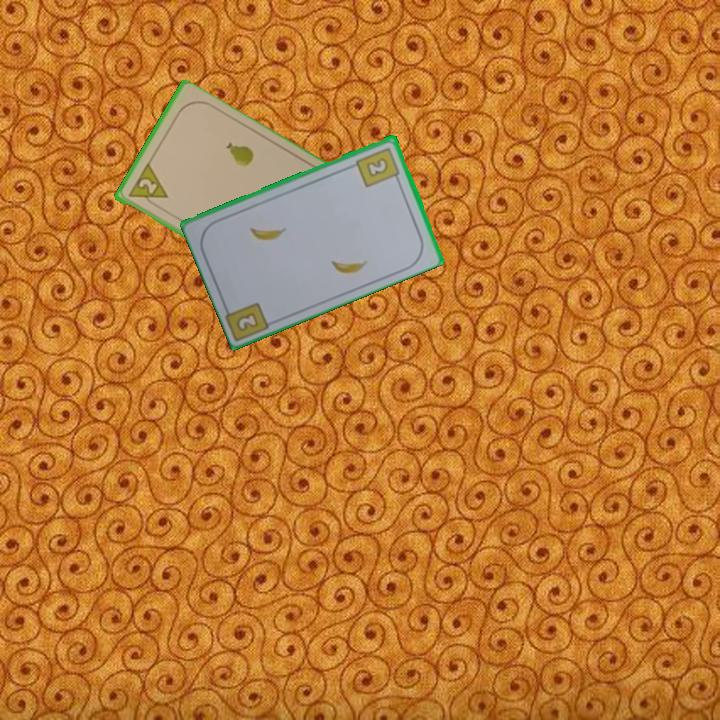2b: (353, 144, 403, 190), (235, 311, 259, 332)
2p: (124, 161, 170, 211)
